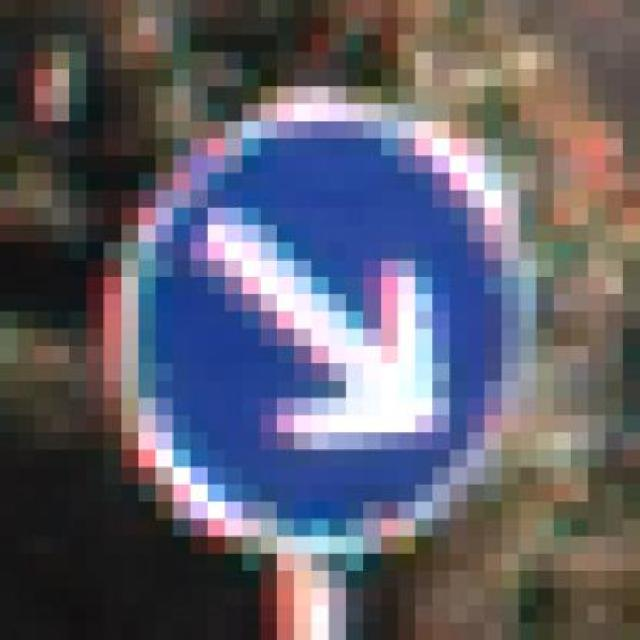Keep-Right: (51, 51, 572, 588)
